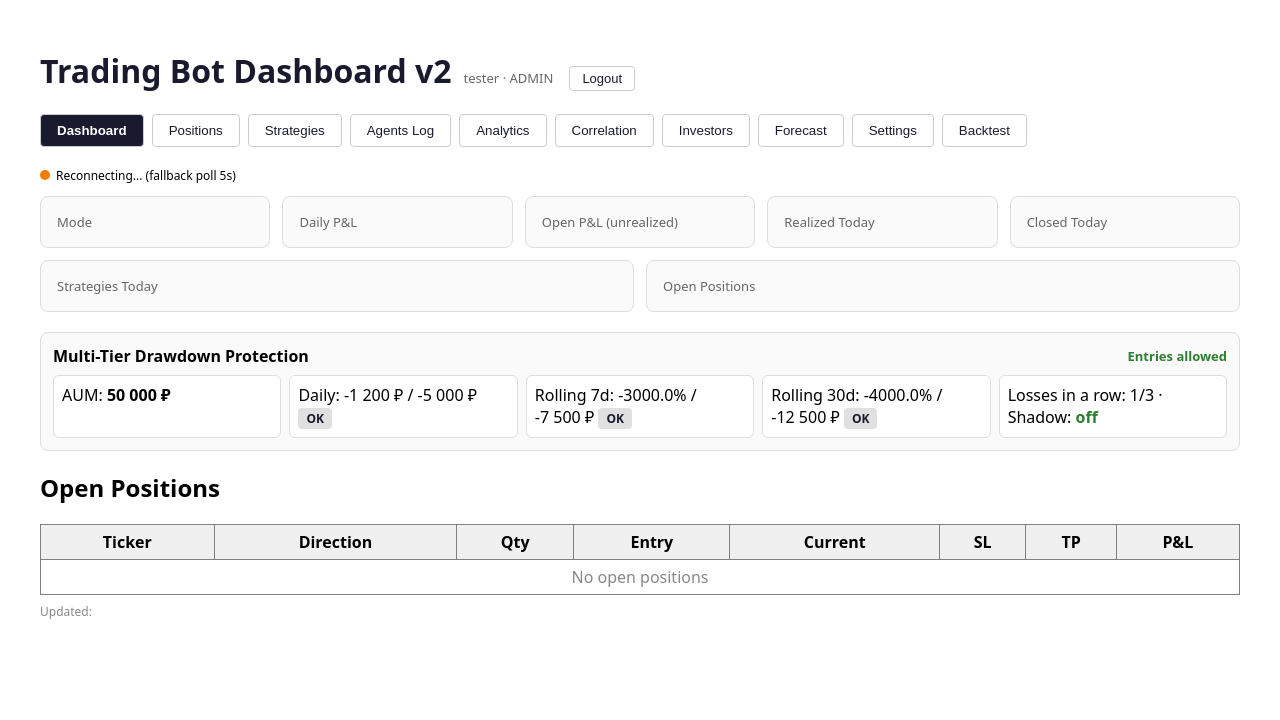
App › renders Correlation tab with exposure score and heatmap
Click the button "Correlation": {"x": 604, "y": 130} [554,114,654,147]
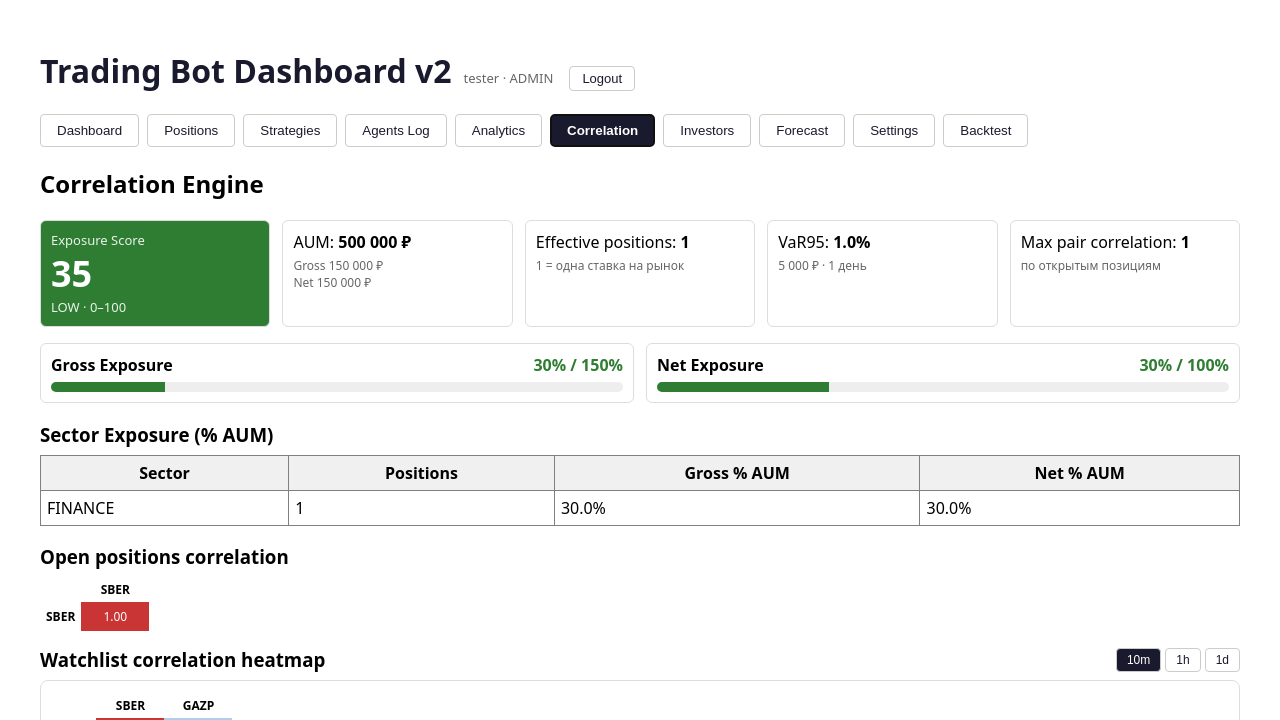
Check: the text "Exposure Score" is shown, box [51,231,145,249]
Check: the text "35" is shown, box [51,249,92,298]
Check: the heading "Watchlist correlation heatmap" is shown, box [40,647,325,672]
